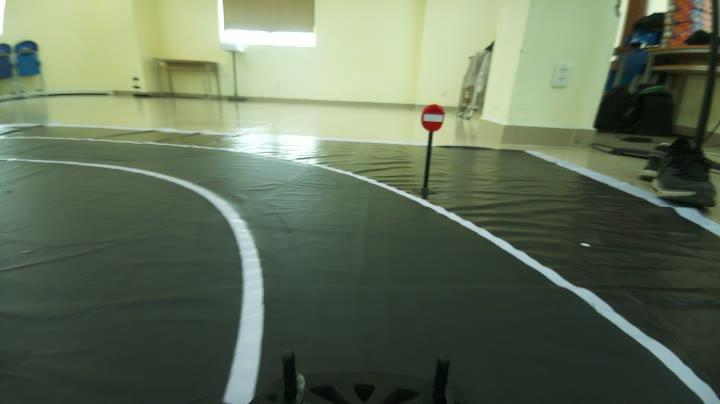no_entry: (416, 96, 450, 134)
